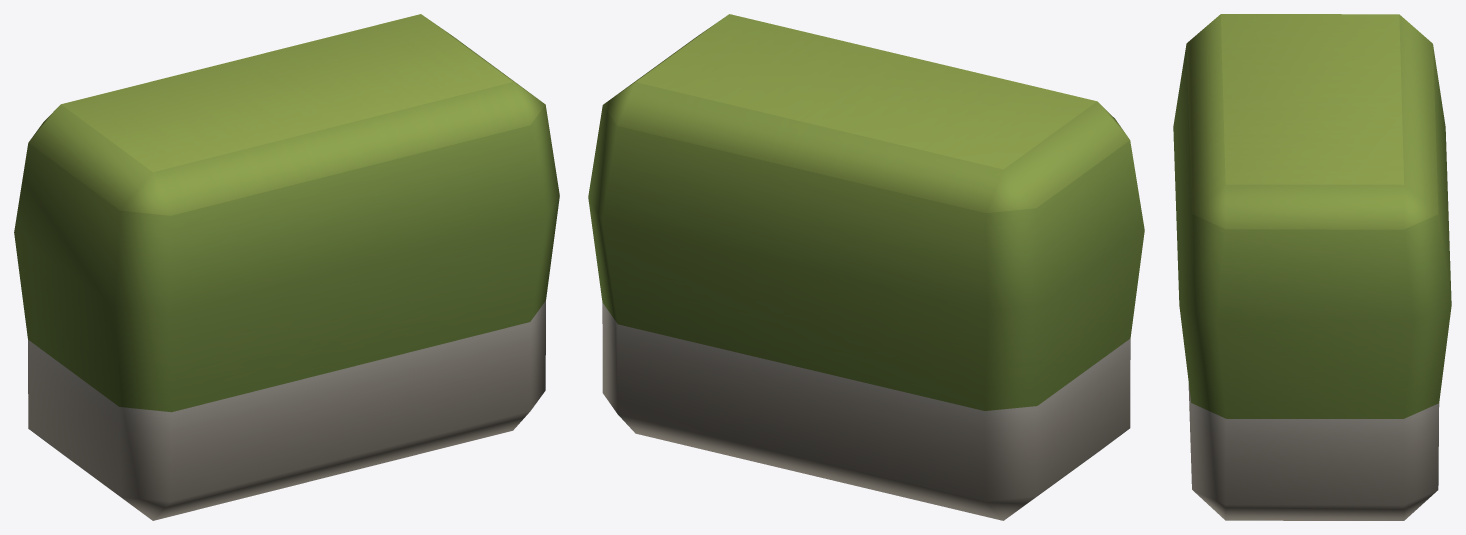
The model's file is hedge_rooftop_1x05.fbx.
3 renders of one model, left to right at view 1: azimuth 30°, elevation 25°; view 2: azimuth 150°, elevation 25°; view 3: azimuth 270°, elevation 25°, orthographic. The views are drawn at different scales.
Parts seen in each view (by area): view 1: hedge_rooftop_1x05; view 2: hedge_rooftop_1x05; view 3: hedge_rooftop_1x05.
Boxes of the visible parts, bbox=[...] form: hedge_rooftop_1x05: bbox=[14, 14, 559, 520]; hedge_rooftop_1x05: bbox=[588, 14, 1144, 520]; hedge_rooftop_1x05: bbox=[1173, 14, 1451, 520].
Size of the model in its own units: 111 by 82.42 by 61.85.
